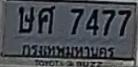4: (85, 8, 98, 34)
7: (70, 7, 83, 34), (101, 9, 114, 35), (118, 9, 130, 35)
A38: (38, 5, 54, 33)
A39: (18, 5, 34, 32)
BKK: (20, 42, 116, 61)
